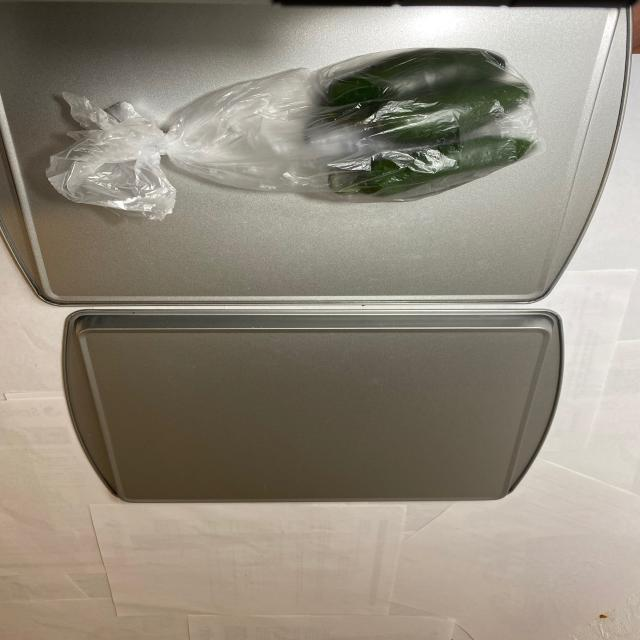chilli: (292, 49, 549, 200)
